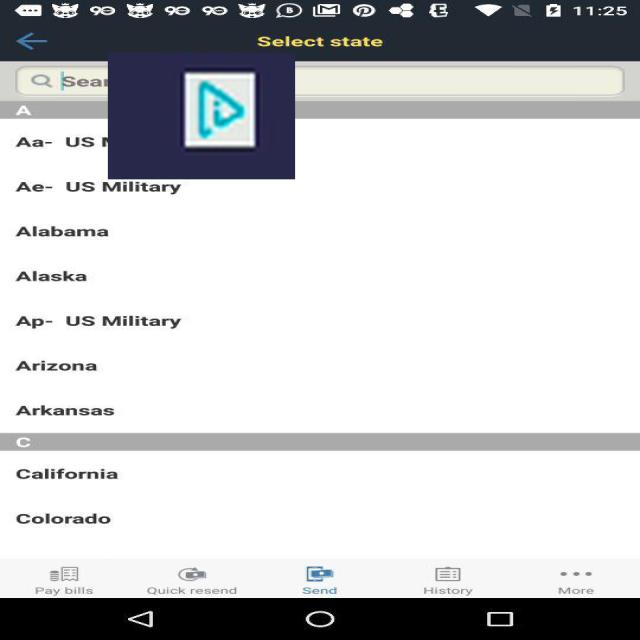sneaking: (108, 53, 295, 179)
